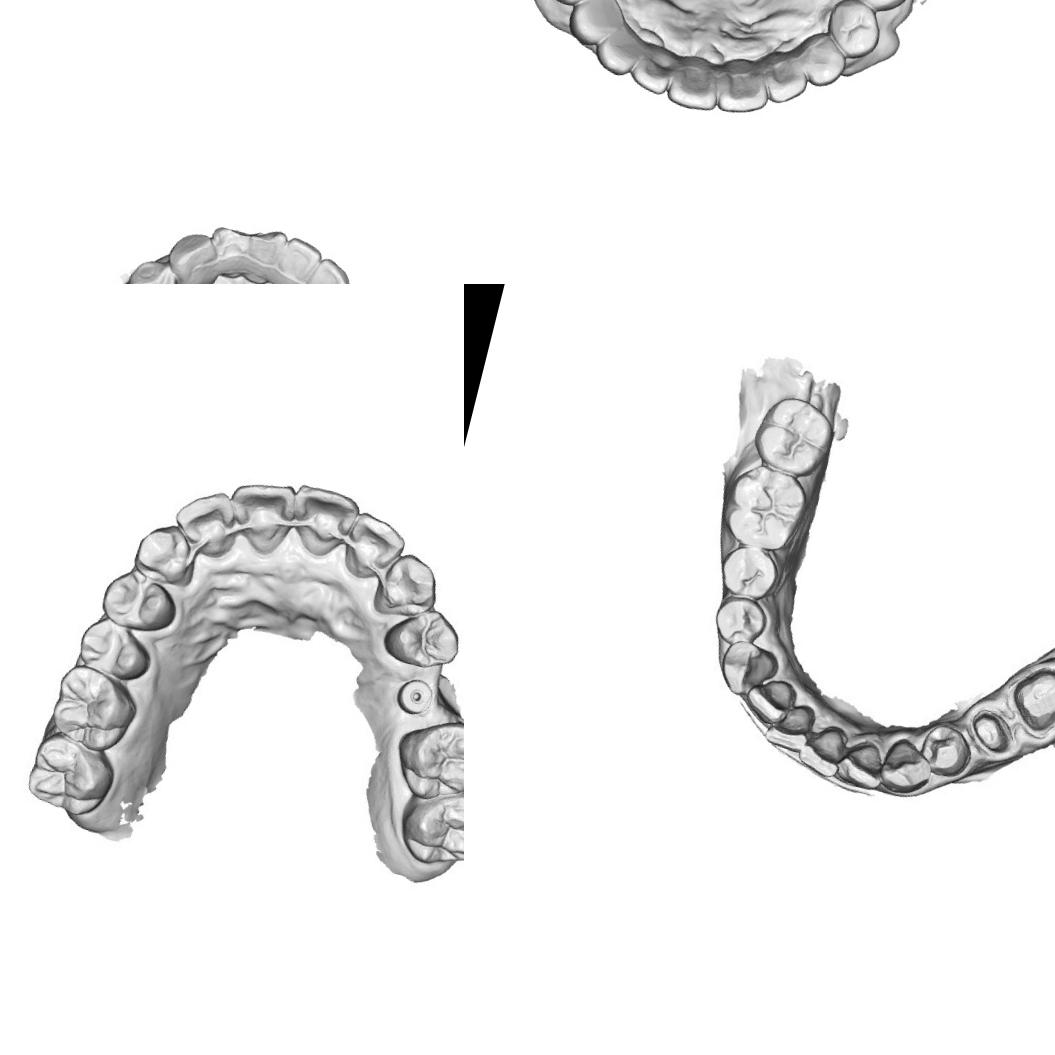canine: (126, 515, 208, 591), (370, 546, 444, 625), (788, 22, 854, 94), (156, 224, 228, 284), (716, 638, 777, 698), (561, 0, 621, 51), (882, 738, 936, 792)
crown: (1009, 658, 1055, 735), (968, 711, 1015, 756)
implant: (390, 672, 436, 716)
incisor: (284, 480, 367, 564), (219, 473, 300, 559), (166, 482, 246, 560), (335, 507, 410, 589), (712, 60, 774, 123), (662, 58, 725, 118), (235, 218, 291, 284), (757, 48, 814, 110), (622, 44, 682, 100), (587, 20, 643, 80), (267, 230, 328, 284), (204, 221, 254, 283), (835, 736, 889, 792), (746, 671, 800, 722), (762, 698, 814, 750), (797, 720, 847, 772), (298, 251, 356, 284)
molar: (17, 727, 122, 823), (43, 660, 140, 758), (718, 457, 814, 556), (385, 707, 464, 807), (394, 779, 464, 878), (753, 392, 832, 477)
premolar: (70, 612, 158, 687), (94, 566, 182, 638), (380, 600, 464, 673), (817, 0, 889, 65), (710, 590, 774, 649), (716, 543, 779, 602), (916, 726, 972, 780), (118, 251, 186, 284), (838, 0, 923, 22)
